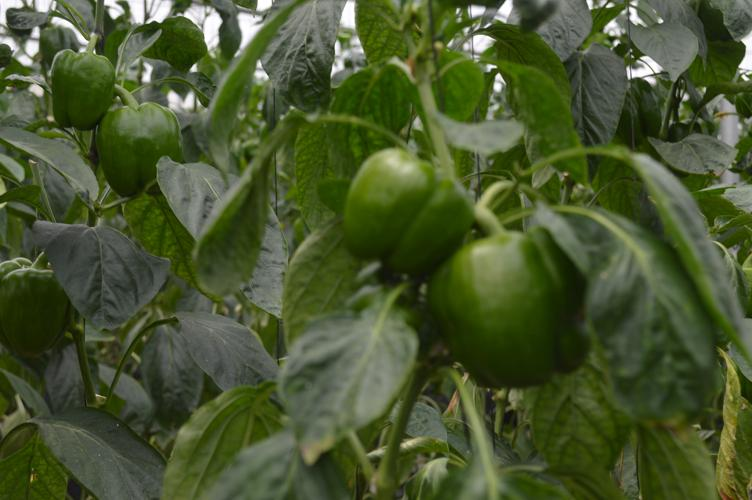BellPepper: (435, 232, 591, 385), (335, 148, 469, 276), (95, 106, 184, 188), (3, 260, 73, 354), (45, 53, 110, 126)
